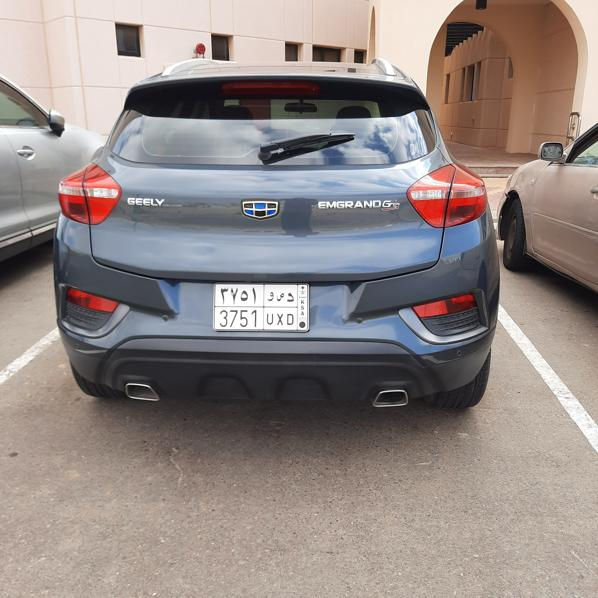numberplate: (215, 283, 309, 330)
